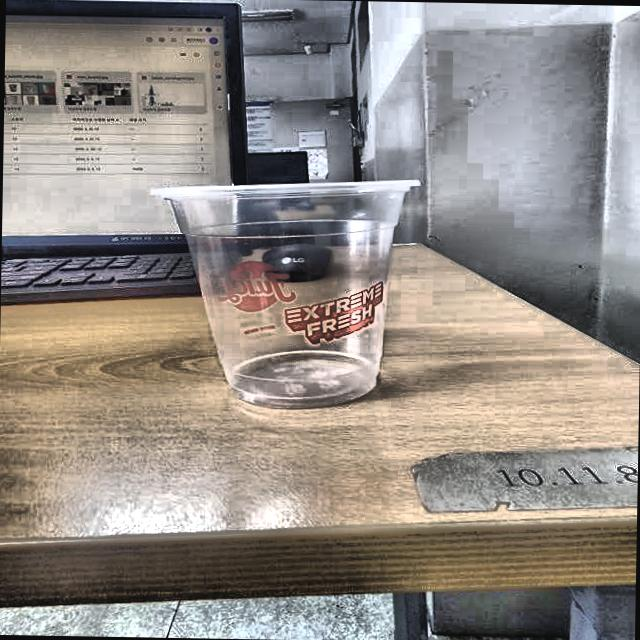plastic cup: (148, 172, 423, 409)
